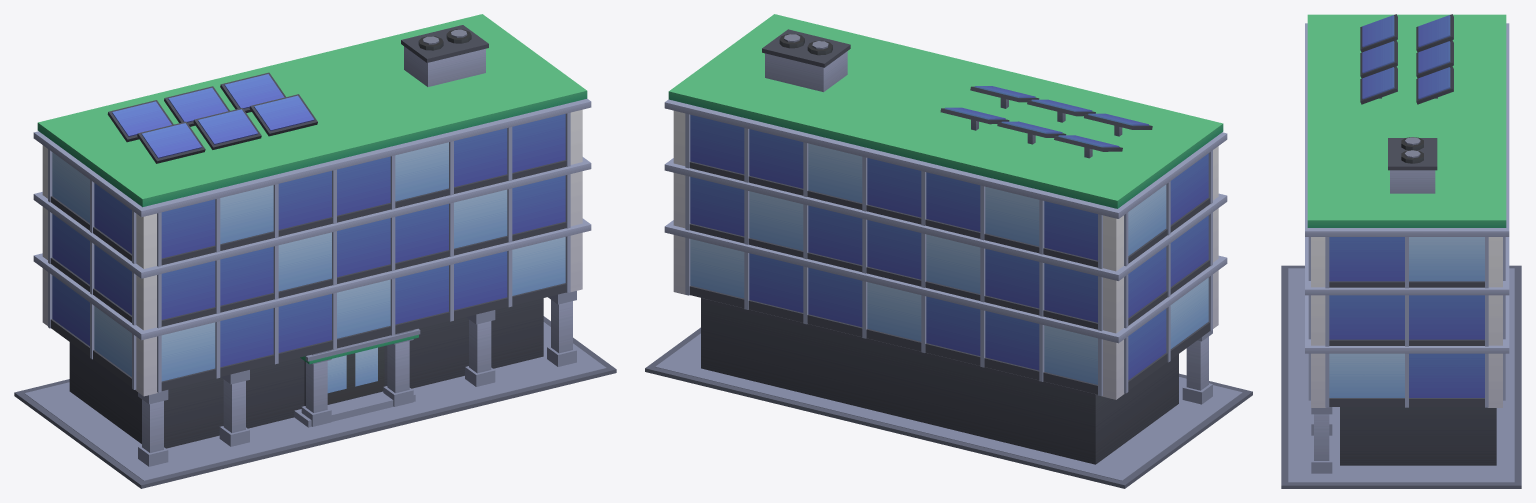
The model's file is off_glass_pavilion_2x1.glb.
3 views of the same model, side by side, from view 1: azimuth 30°, elevation 25°; view 2: azimuth 150°, elevation 25°; view 3: azimuth 270°, elevation 25° (orthographic). The views are drawn at different scales.
Parts seen in each view (by area): view 1: off_glass_pavilion_2x1; view 2: off_glass_pavilion_2x1; view 3: off_glass_pavilion_2x1.
Part boxes in pixels (left/top/right/bottom): off_glass_pavilion_2x1: left=14, top=14, right=616, bottom=488; off_glass_pavilion_2x1: left=645, top=14, right=1252, bottom=488; off_glass_pavilion_2x1: left=1281, top=14, right=1521, bottom=488.
Size of the model in its own units: 3.72 by 2.32 by 1.72.
Materials: 1 (1 with a texture image).
